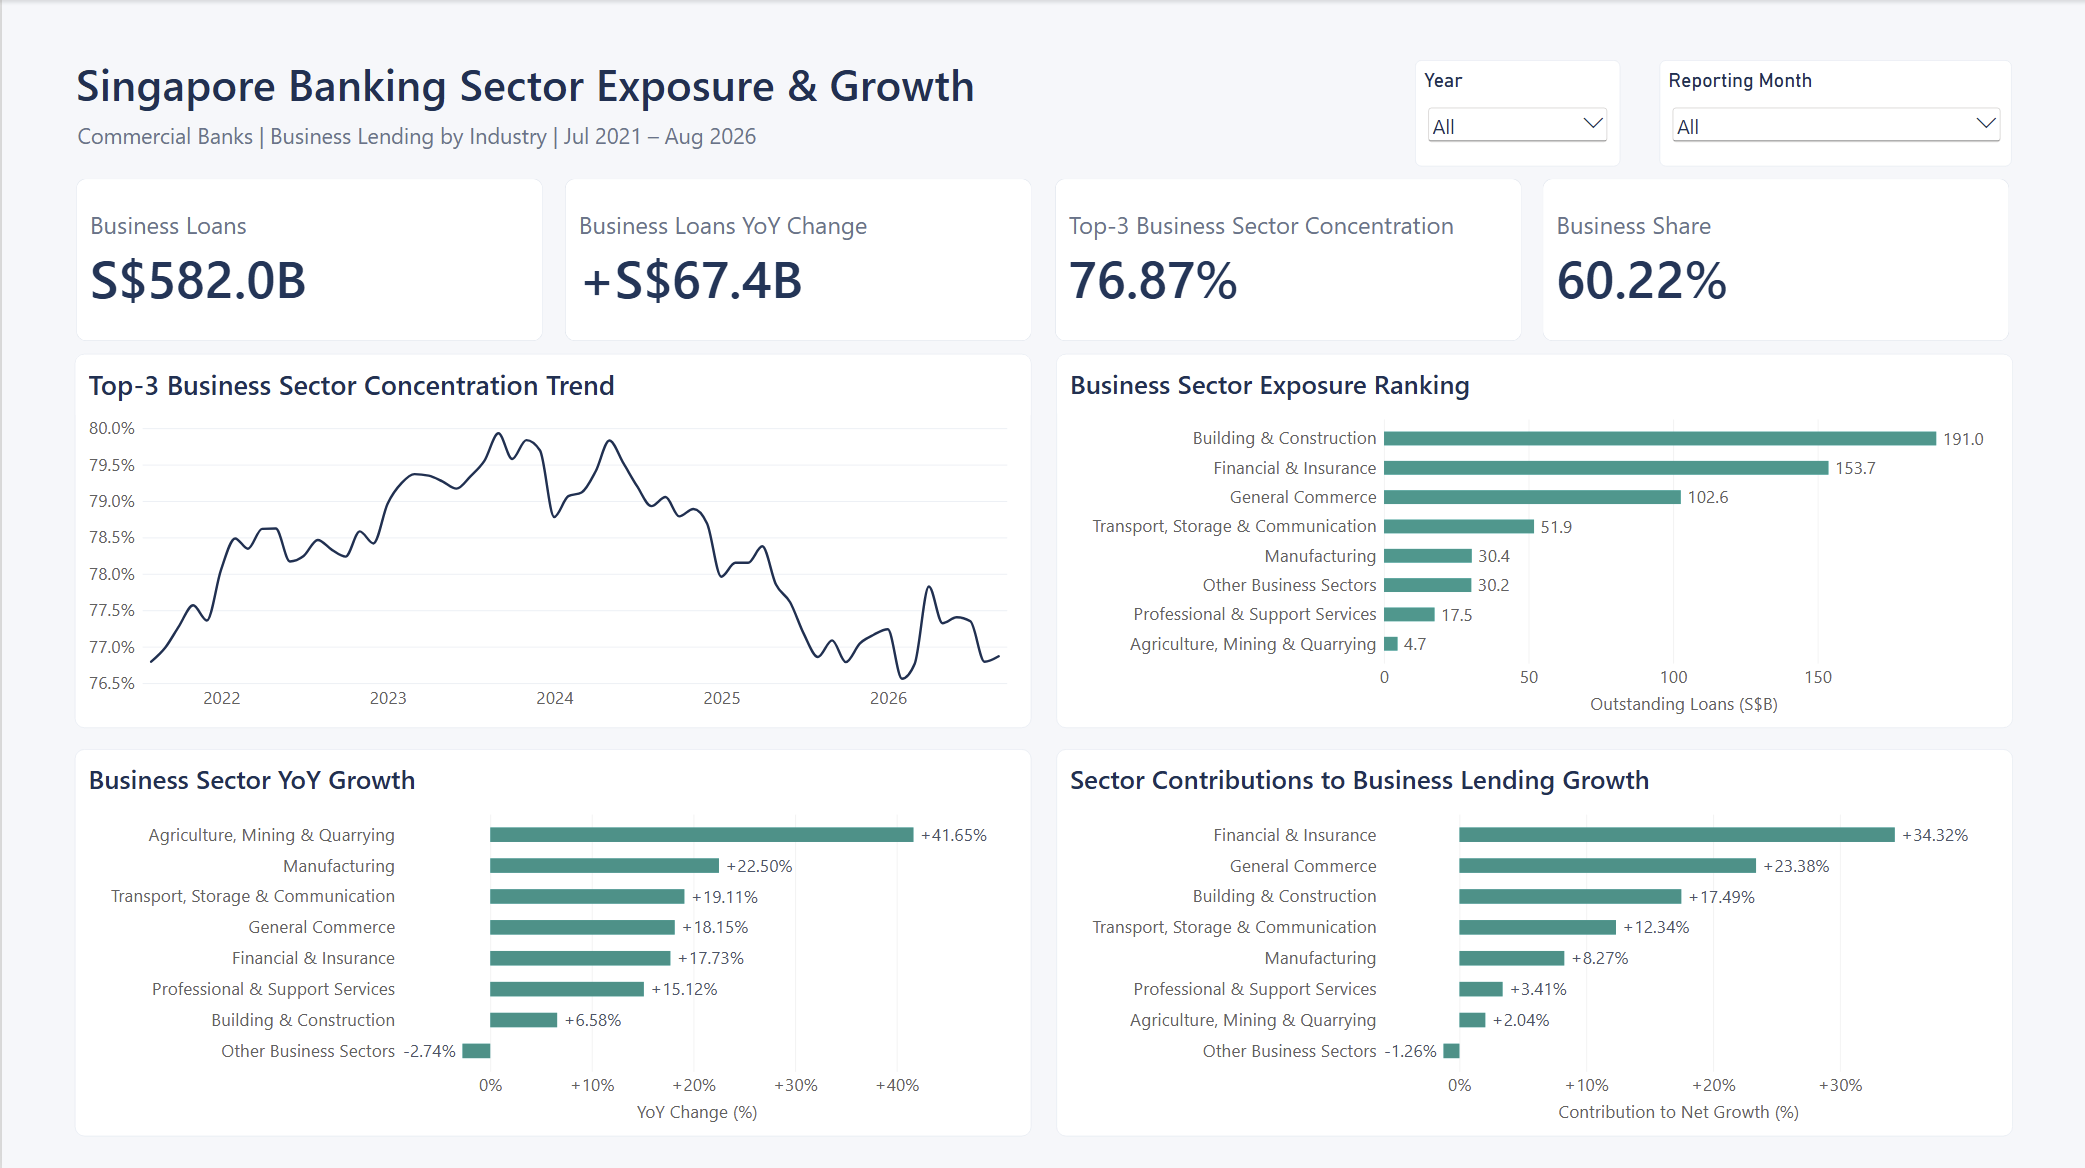

Layout of this report page (visuals, bound fields, positions):
{"tool":"powerbi","page":{"name":"02 Sector Exposure & Growth","canvas":[2560,1440],"ordinal":1},"visuals":[{"type":"textbox","box":[91.2,66.7,1898.3,84.2],"z":0},{"type":"textbox","box":[92,150,1850,55],"z":1000},{"type":"cardVisual","fields":{"Data":["DimCategory.Business Loans (S$B)"]},"box":[91.2,220,574,200],"z":2000},{"type":"cardVisual","fields":{"Data":["DimCategory.Business Loans YoY Change (S$B)"]},"box":[692.3,220,574,200],"z":3000},{"type":"cardVisual","fields":{"Data":["FactLoans.Business Share (%)"]},"box":[1894.4,220,574,200],"z":4000},{"type":"cardVisual","fields":{"Data":["FactLoans.Top-3 Business Sector Concentration (%)"]},"box":[1295.1,220,574,200],"z":5000},{"type":"slicer","title":"Year","fields":{"Values":["DimMonth.year"]},"box":[1737,75.1,252.2,130.6],"z":6000},{"type":"slicer","title":"Reporting Month","fields":{"Values":["DimMonth.year_month"]},"box":[2037.5,75.1,432.9,130.6],"z":7000},{"type":"lineChart","title":"Top-3 Business Sector Concentration Trend","fields":{"Category":["DimMonth.period_end"],"Y":["FactLoans.Top-3 Business Sector Concentration (%)"]},"box":[90,436,1176,460],"z":8000},{"type":"clusteredBarChart","title":"Business Sector Exposure Ranking","fields":{"Category":["DimCategory.display_name"],"Y":["DimCategory.Business Sector Balance (S$B)"]},"box":[1296,436,1176,460],"z":9000},{"type":"clusteredBarChart","title":"Business Sector YoY Growth","fields":{"Category":["DimCategory.display_name"],"Y":["FactLoans.Business Sector YoY Growth (%)"]},"box":[90,922,1176,476],"z":10000},{"type":"clusteredBarChart","title":"Sector Contributions to Business Lending Growth","fields":{"Category":["DimCategory.display_name"],"Y":["FactLoans.Business Sector Contribution to Business Growth (%)"]},"box":[1296,922,1176,476],"z":10001}]}

Visuals, with their boxes in screenshot pixels (x1, y1, x2, y2), scaled from the page's 2560x1440 canvas onto the 2085x1168 screenshot:
textbox: [74, 54, 1620, 122]
textbox: [75, 122, 1582, 166]
cardVisual - DimCategory.Business Loans (S$B): [74, 178, 542, 341]
cardVisual - DimCategory.Business Loans YoY Change (S$B): [564, 178, 1031, 341]
cardVisual - FactLoans.Business Share (%): [1543, 178, 2010, 341]
cardVisual - FactLoans.Top-3 Business Sector Concentration (%): [1055, 178, 1522, 341]
"Year" slicer: [1415, 61, 1620, 167]
"Reporting Month" slicer: [1659, 61, 2012, 167]
"Top-3 Business Sector Concentration Trend" lineChart: [73, 354, 1031, 727]
"Business Sector Exposure Ranking" clusteredBarChart: [1056, 354, 2013, 727]
"Business Sector YoY Growth" clusteredBarChart: [73, 748, 1031, 1134]
"Sector Contributions to Business Lending Growth" clusteredBarChart: [1056, 748, 2013, 1134]
